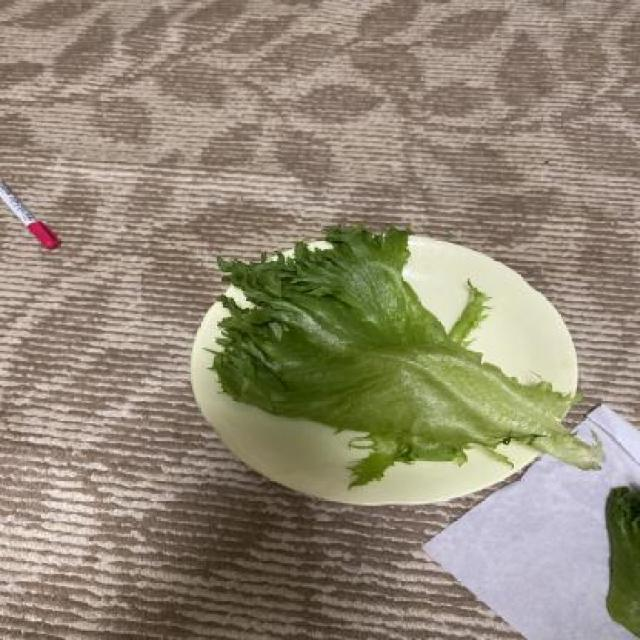Lettuce head: (206, 218, 610, 490)
